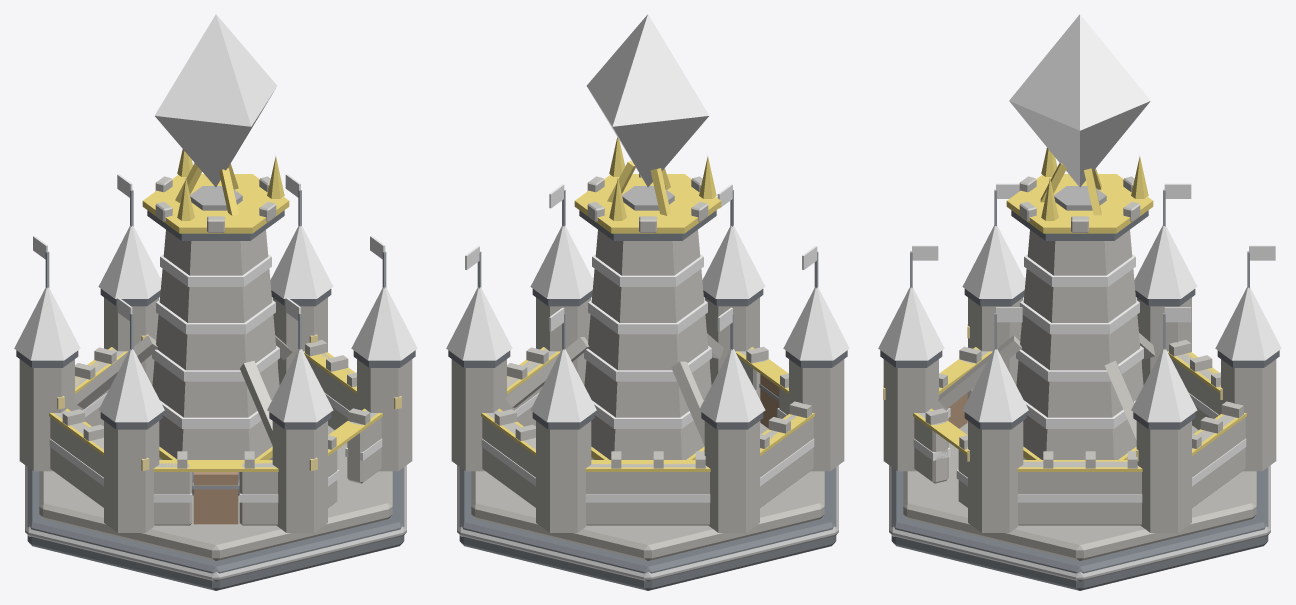
File: core_3.glb
3 views of the same model, side by side, from view 1: azimuth 30°, elevation 25°; view 2: azimuth 150°, elevation 25°; view 3: azimuth 270°, elevation 25° (orthographic).
Visible parts, largest first — view 1: main, crystal; view 2: main, crystal; view 3: main, crystal.
Boxes of the visible parts, x1,y1,x2,y2 form: main: [14, 149, 417, 590]; crystal: [154, 14, 277, 187]; main: [446, 137, 849, 590]; crystal: [586, 14, 709, 187]; main: [878, 148, 1281, 590]; crystal: [1009, 14, 1150, 187].
Size of the model in its own units: 1.97 by 2.42 by 1.82.
